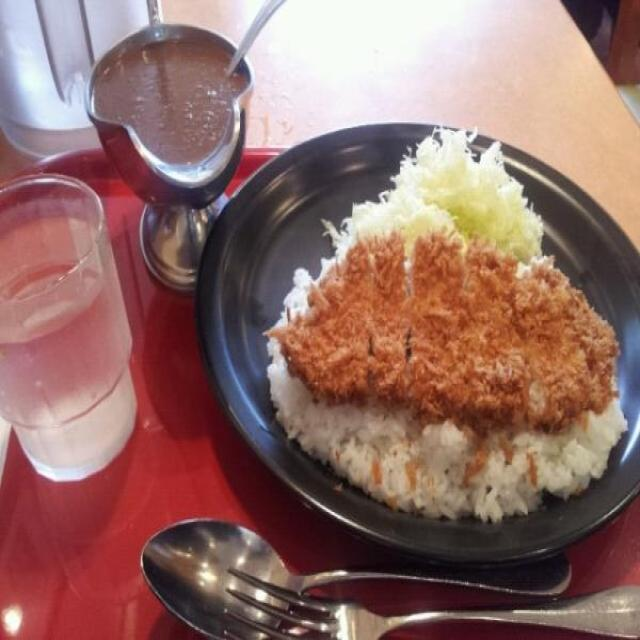猪肉菜式: (189, 111, 640, 583)
